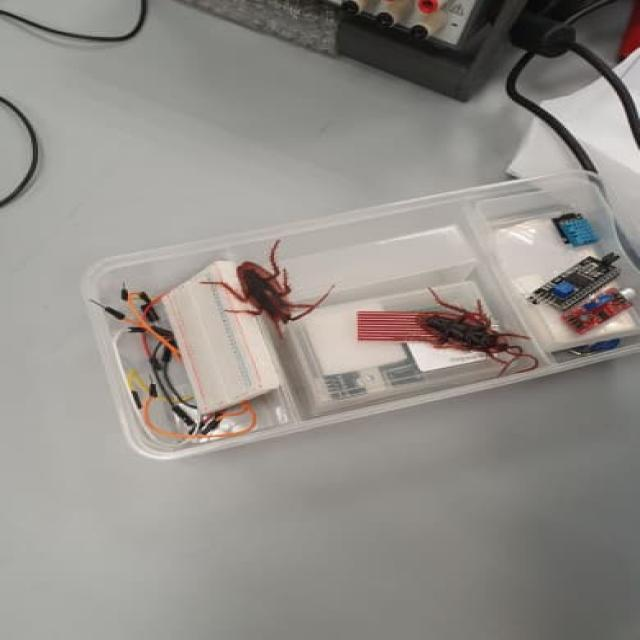Cockroach: (205, 238, 332, 338), (412, 289, 535, 374)
